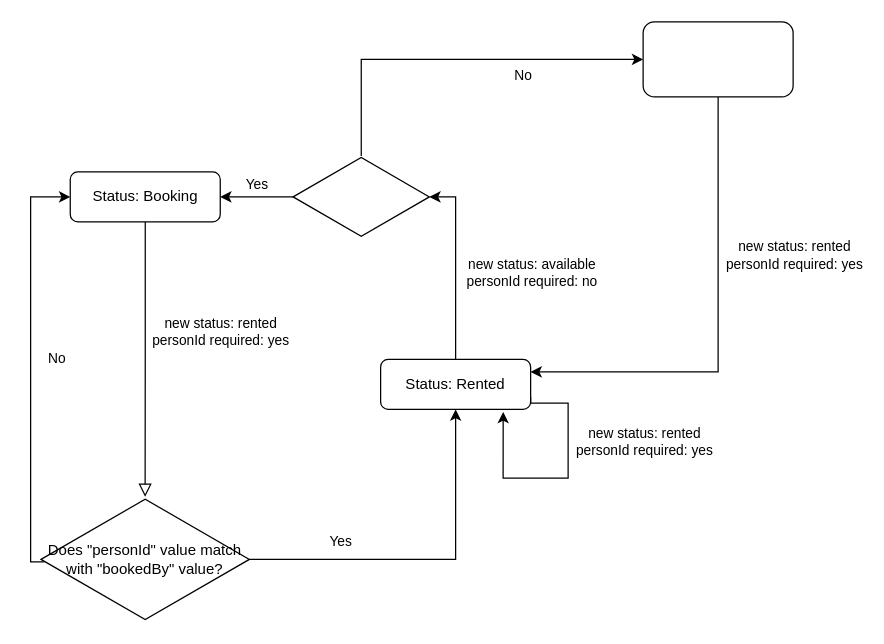
Some shapes in this 884 by 644 pixel diagram are drawn without their labels. Each missing label, with the centre of its shape:
Is "bookedBy" set?: [360,196]
Status: Available: [717,59]
